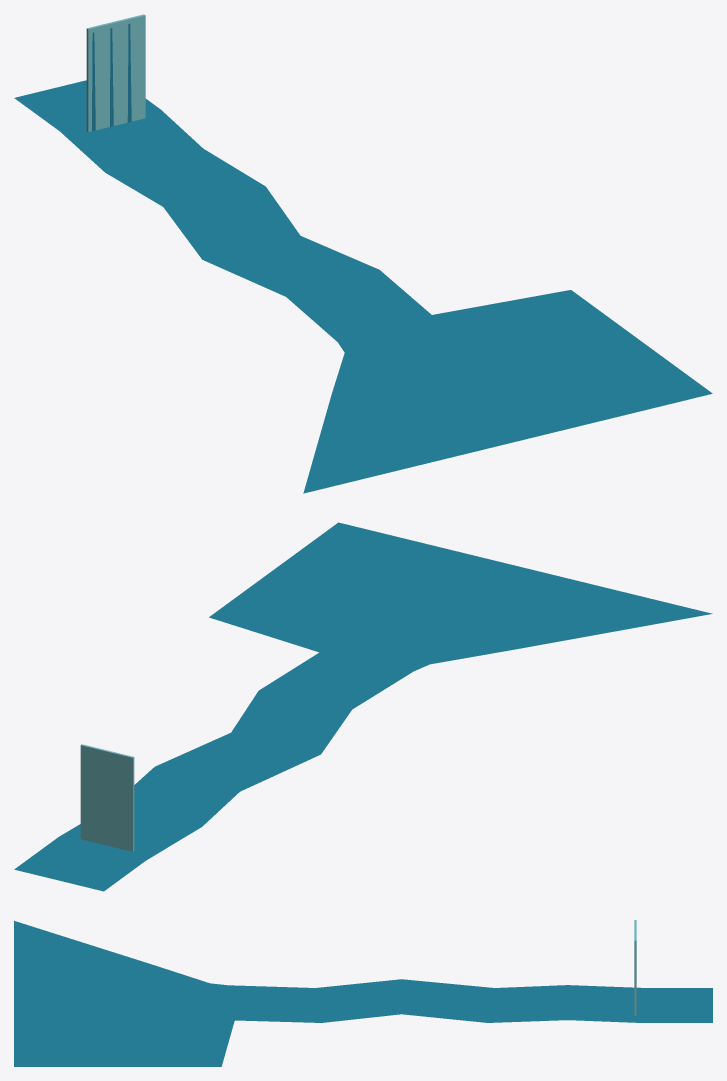
File: water.glb
The picture shows the model from 3 angles, top to bottom: view 1: azimuth 30°, elevation 25°; view 2: azimuth 150°, elevation 25°; view 3: azimuth 270°, elevation 25°; orthographic projection. The views are drawn at different scales.
Parts seen in each view (by area): view 1: Lake, River, Waterfall; view 2: Lake, River, Waterfall; view 3: Lake, River, Waterfall.
Part boxes in pixels (<box>): Lake: <box>303,290,712,493</box>; River: <box>14,80,431,352</box>; Waterfall: <box>86,14,145,132</box>; Lake: <box>209,522,712,672</box>; River: <box>14,652,428,891</box>; Waterfall: <box>80,744,134,851</box>; Lake: <box>14,921,242,1066</box>; River: <box>211,979,712,1022</box>; Waterfall: <box>634,920,636,1015</box>.
Size of the model in its own units: 50 by 12 by 101.
